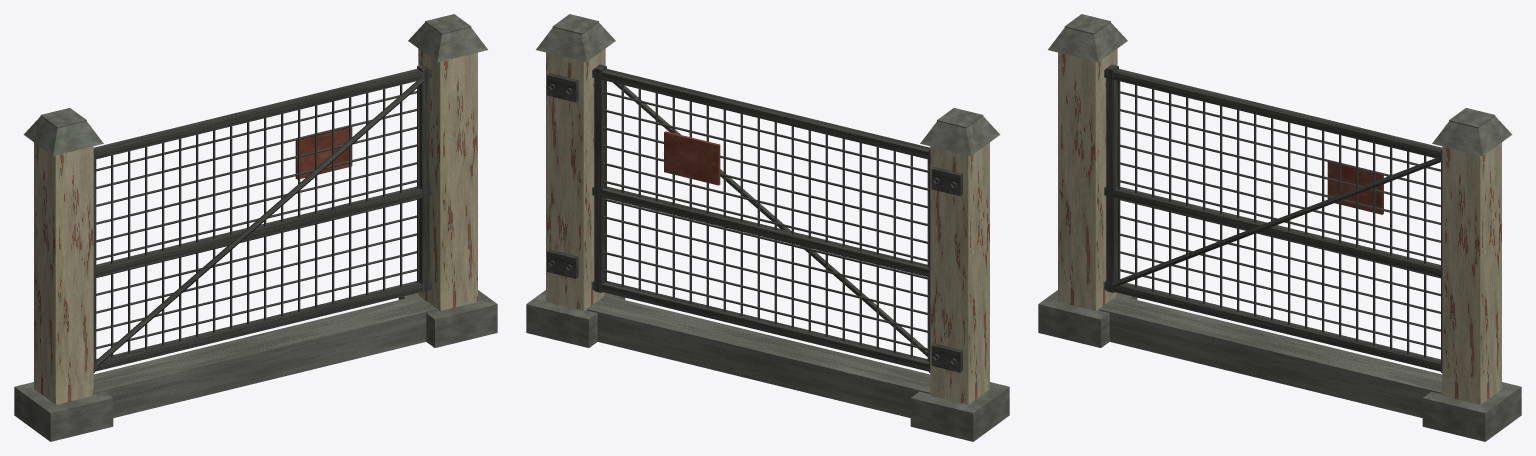
The model's file is base_fence.gltf.
3 views of the same model, side by side, from view 1: azimuth 30°, elevation 25°; view 2: azimuth 150°, elevation 25°; view 3: azimuth 330°, elevation 25° (orthographic).
Visible parts, largest first — view 1: base_fence; view 2: base_fence; view 3: base_fence.
Part boxes in pixels (x1,y1,x2,y2): base_fence: (14,14,497,441); base_fence: (526,14,1009,441); base_fence: (1038,14,1521,441).
Size of the model in its own units: 3.42 by 2.22 by 0.48.
1 material, 1 textured.
